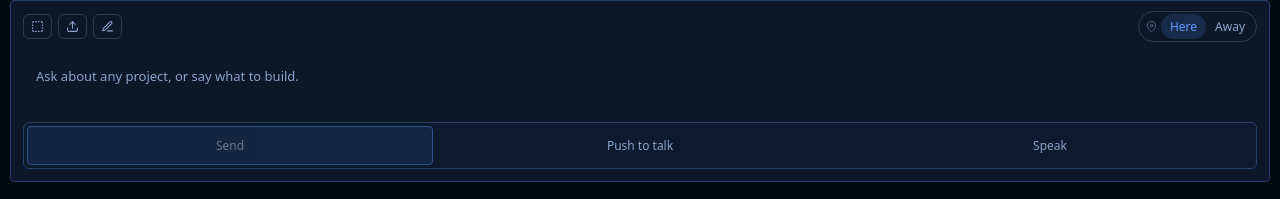
Test: ComposeBox — dictation lifecycle › COMMIT: dictated text appends to what the user already typed
Type "hey" into the text box named "Message".
click(640, 85); type("hey")  # box [23, 56, 1257, 114]
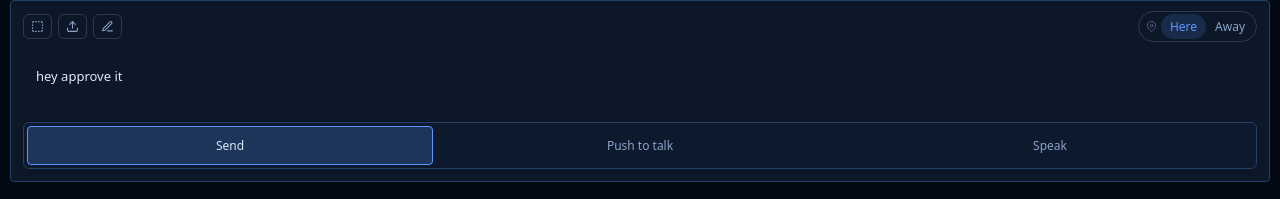
Expected: the text box named "Message" holds "hey approve it", [23, 56, 1257, 114]
